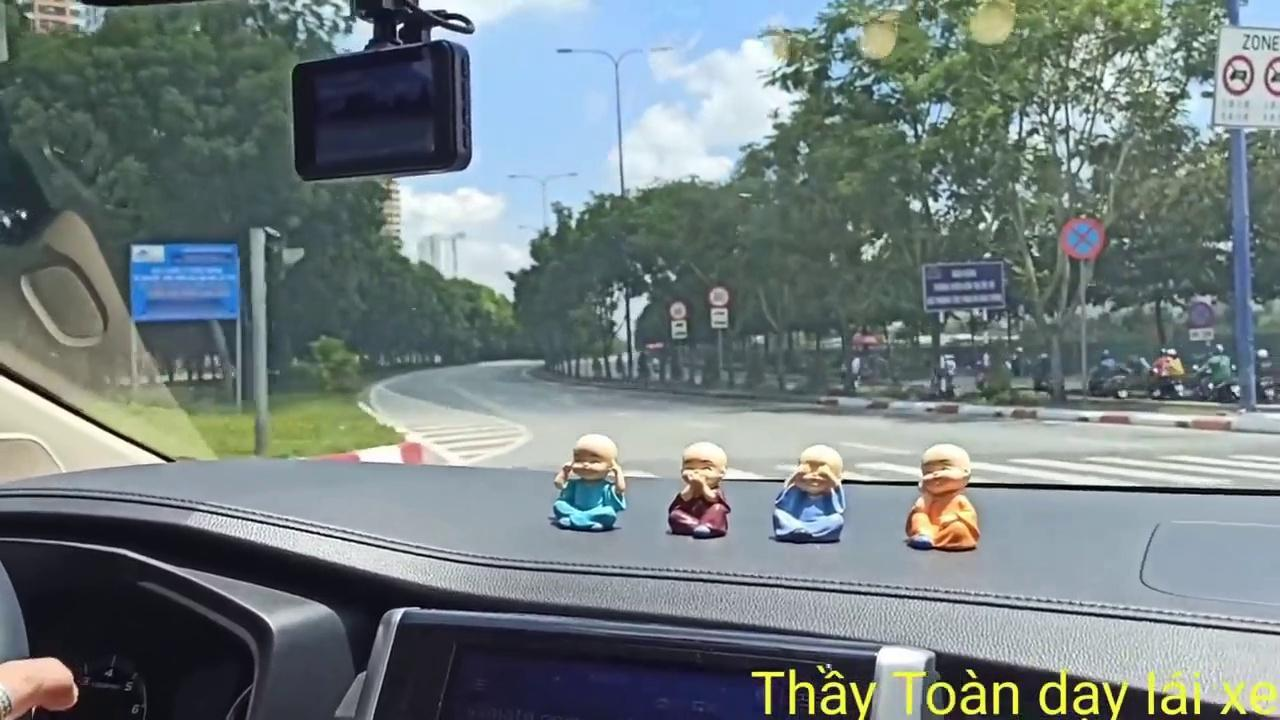Biển phụ: (709, 306, 730, 329), (670, 321, 687, 339)
Cấm dừng - Cấm đỗ: (1056, 213, 1106, 263)
Khác: (128, 240, 239, 323)
